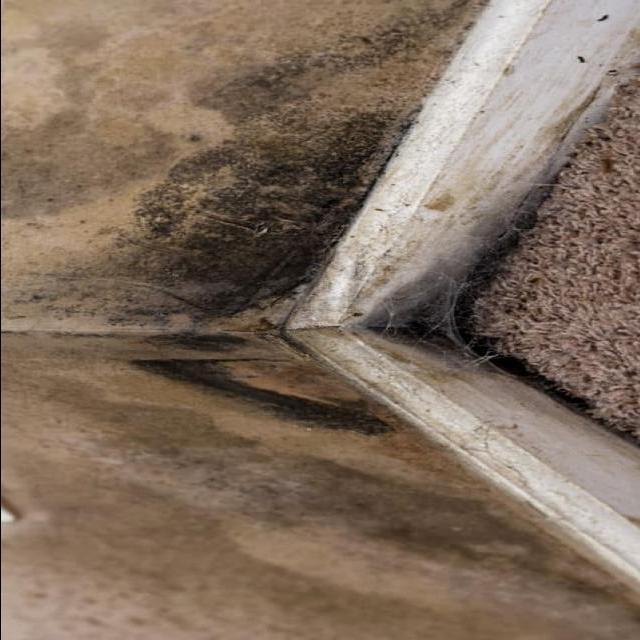dampens: (430, 184, 549, 356), (136, 154, 279, 254), (340, 111, 426, 227), (210, 50, 336, 121), (336, 5, 463, 71), (240, 244, 334, 309), (551, 75, 612, 149), (6, 277, 123, 311), (134, 356, 239, 392), (140, 331, 278, 358), (272, 323, 341, 375), (149, 282, 238, 314), (338, 256, 384, 311), (363, 317, 403, 335), (27, 290, 52, 302)
dampness: (113, 301, 617, 455)
